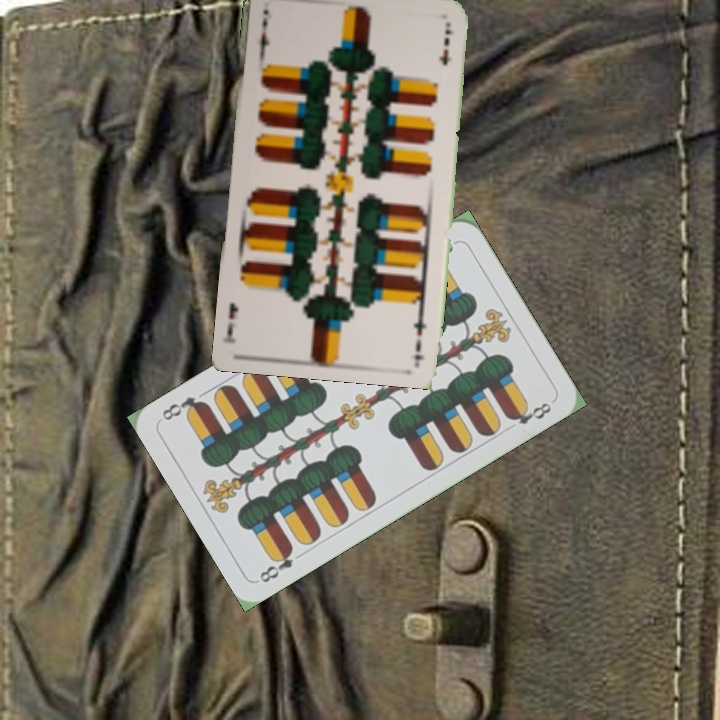E7: (409, 303, 429, 354), (255, 5, 272, 57)
E8: (255, 543, 297, 586)
